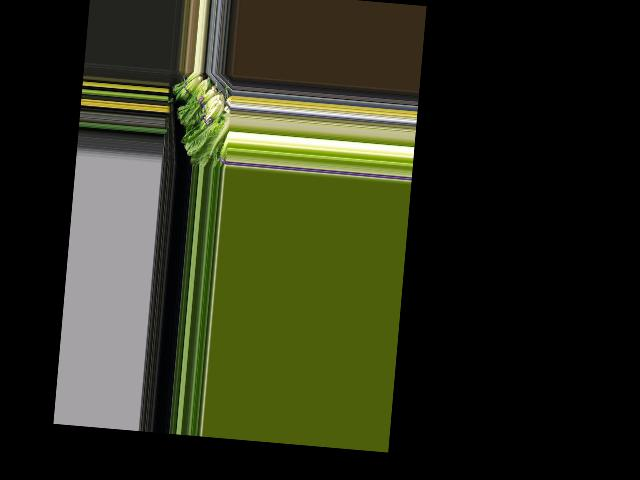lettuce: (185, 110, 228, 167)
